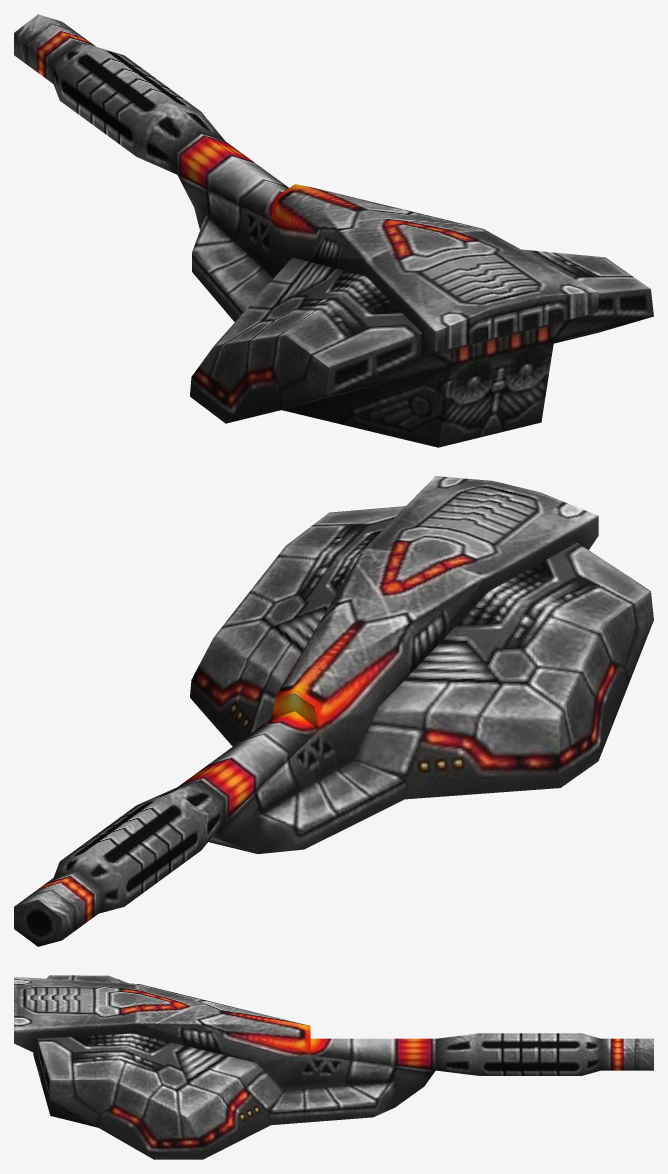
Rendered from shaft.glb.
The picture shows the model from 3 angles, top to bottom: view 1: azimuth 30°, elevation 25°; view 2: azimuth 150°, elevation 25°; view 3: azimuth 270°, elevation 25°; orthographic projection. The views are drawn at different scales.
Visible parts, largest first — view 1: turret; view 2: turret; view 3: turret.
Part boxes in pixels (bbox=[...]): turret: bbox=[14, 14, 653, 447]; turret: bbox=[14, 476, 653, 946]; turret: bbox=[14, 975, 653, 1159].
Bounding box in the file's own units: 266 × 104 × 593.
Materials: 1 (1 with a texture image).
